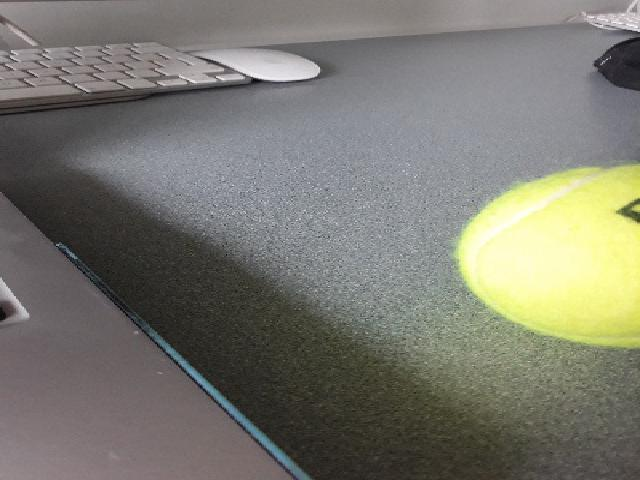Ball: (456, 164, 638, 348)
